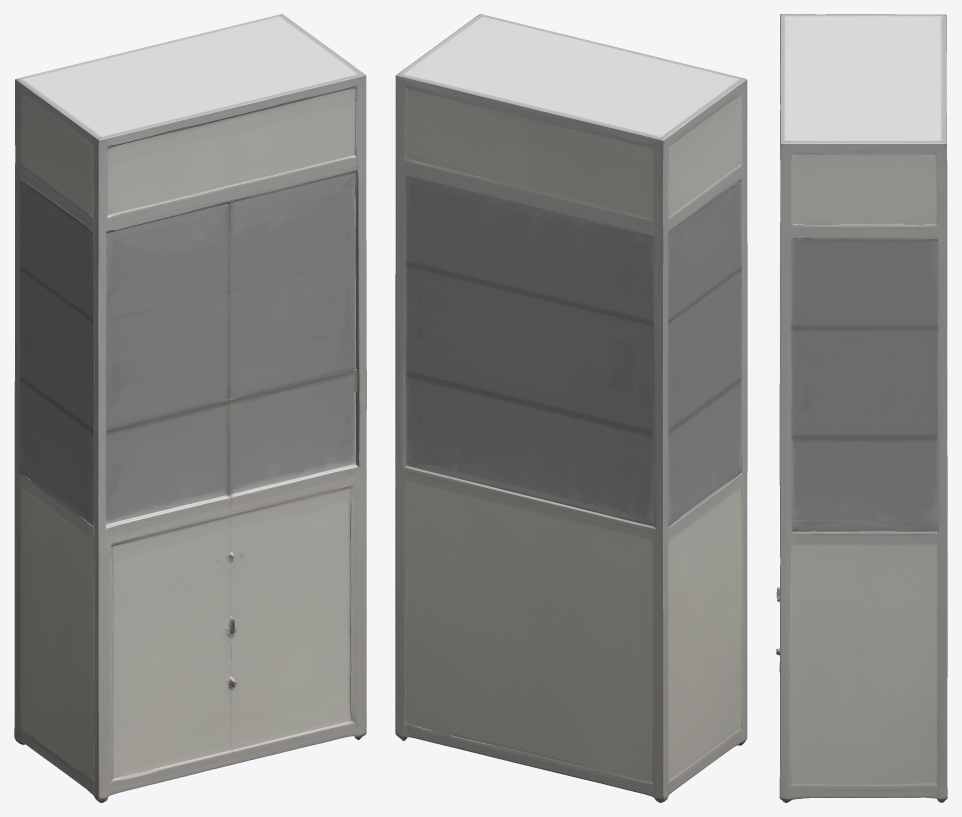
Rendered from isiklivitrin2.glb.
3 views of the same model, side by side, from view 1: azimuth 30°, elevation 25°; view 2: azimuth 150°, elevation 25°; view 3: azimuth 270°, elevation 25° (orthographic).
Size of the model in its own units: 42.01 by 99.39 by 23.34.
1 material, 1 textured.
